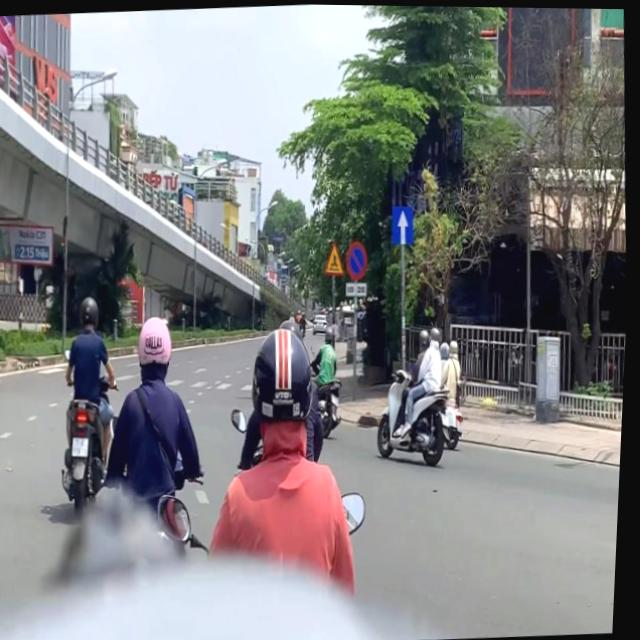Cam do xe: (347, 240, 371, 279)
Duong mot chieu: (393, 204, 417, 244)
Nguoi di bo cat ngang: (324, 238, 349, 276)
